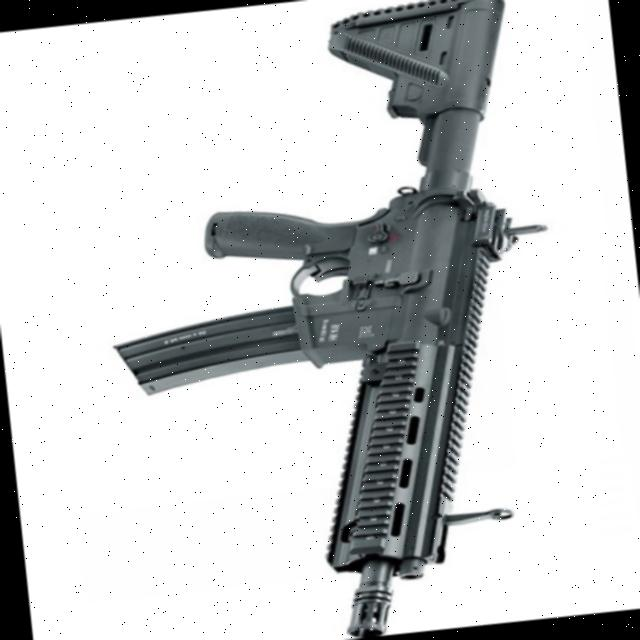Automaticrifle: (82, 0, 589, 640)
